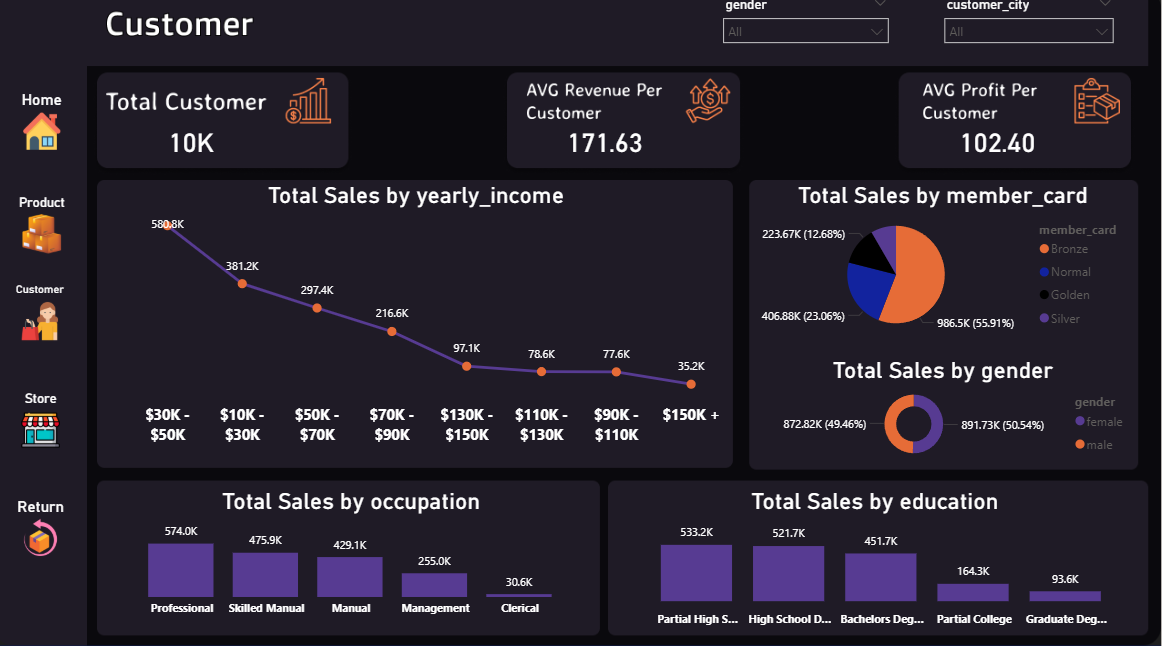

This screenshot's page, from the dashboard's own definition file:
{"tool":"powerbi","page":{"name":"customer","canvas":[1280,720],"ordinal":3},"visuals":[{"type":"card","fields":{"Values":["Dax.Total Customer"]},"box":[135.8,131.7,159.2,64.5],"z":0},{"type":"card","fields":{"Values":["Dax.avg revenue per customer"]},"box":[590.1,131.7,159.2,64.5],"z":1000},{"type":"card","fields":{"Values":["Dax.avg profit per customer"]},"box":[382.8,131.7,159.2,64.5],"z":2000},{"type":"lineChart","fields":{"Category":["dim_customer.yearly_income"],"Y":["Dax.Total Sales"]},"box":[116.6,208.6,691.6,296.4],"z":3000},{"type":"donutChart","fields":{"Category":["dim_customer.gender"],"Y":["Dax.Total Sales"]},"box":[827.4,400.7,426.8,119.4],"z":4000},{"type":"clusteredColumnChart","fields":{"Category":["dim_customer.occupation"],"Y":["Dax.Total Sales"]},"box":[126.2,544.8,529.7,149.6],"z":5000},{"type":"clusteredColumnChart","fields":{"Category":["dim_customer.education"],"Y":["Dax.Total Sales"]},"box":[669.6,544.8,592.8,159.2],"z":6000},{"type":"barChart","fields":{"Category":["dim_customer.member_card"],"Y":["Dax.Total Sales"]},"box":[835.7,108.4,426.8,263.5],"z":7000},{"type":"slicer","fields":{"Values":["dim_customer.gender"]},"box":[789,0,201.7,87.8],"z":8000},{"type":"slicer","fields":{"Values":["dim_customer.customer_city"]},"box":[1031.9,0,205.8,87.8],"z":9000},{"type":"image","title":"Home","box":[1.4,108.4,100.2,64.5],"z":10000},{"type":"image","title":"Product","box":[1.4,222.3,100.2,64.5],"z":11000},{"type":"image","title":"Customer","box":[0,319.7,98.8,64.5],"z":12000},{"type":"image","title":"Store","box":[0,437.7,100.2,64.5],"z":13000},{"type":"image","title":"Return","box":[0,554.4,100.2,64.5],"z":14000}]}

Visuals, with their boxes in screenshot pixels (x1, y1, x2, y2), scaled from the page's 1280x720 canvas onto the 1162x646 screenshot:
card - Dax.Total Customer: 123/118/268/176
card - Dax.avg revenue per customer: 536/118/680/176
card - Dax.avg profit per customer: 348/118/492/176
lineChart - dim_customer.yearly_income x Dax.Total Sales: 106/187/734/453
donutChart - dim_customer.gender x Dax.Total Sales: 751/360/1139/467
clusteredColumnChart - dim_customer.occupation x Dax.Total Sales: 115/489/595/623
clusteredColumnChart - dim_customer.education x Dax.Total Sales: 608/489/1146/632
barChart - dim_customer.member_card x Dax.Total Sales: 759/97/1146/334
slicer - dim_customer.gender: 716/0/899/79
slicer - dim_customer.customer_city: 937/0/1124/79
"Home" image: 1/97/92/155
"Product" image: 1/199/92/257
"Customer" image: 0/287/90/345
"Store" image: 0/393/91/451
"Return" image: 0/497/91/555
